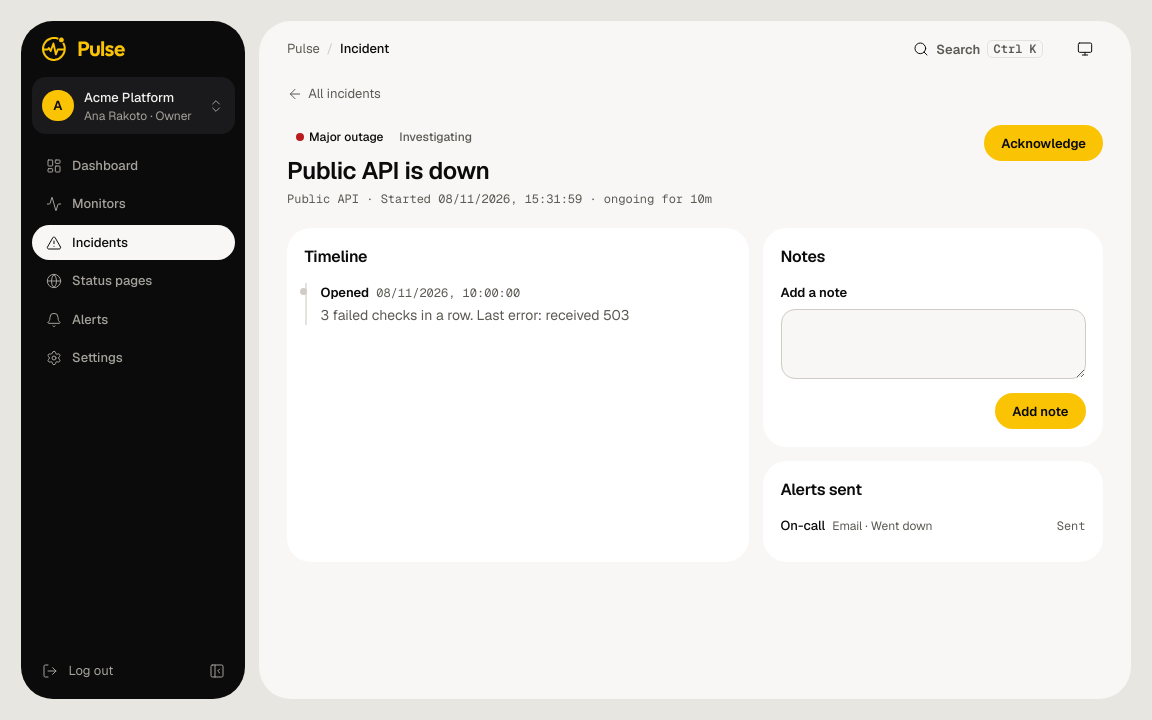
it: Incident detail › adds an internal note to a monitor incident
Step 1. Type "Restarting the pod." into the text box labelled "Add a note" → (933, 344), box 780,309 -> 1086,379
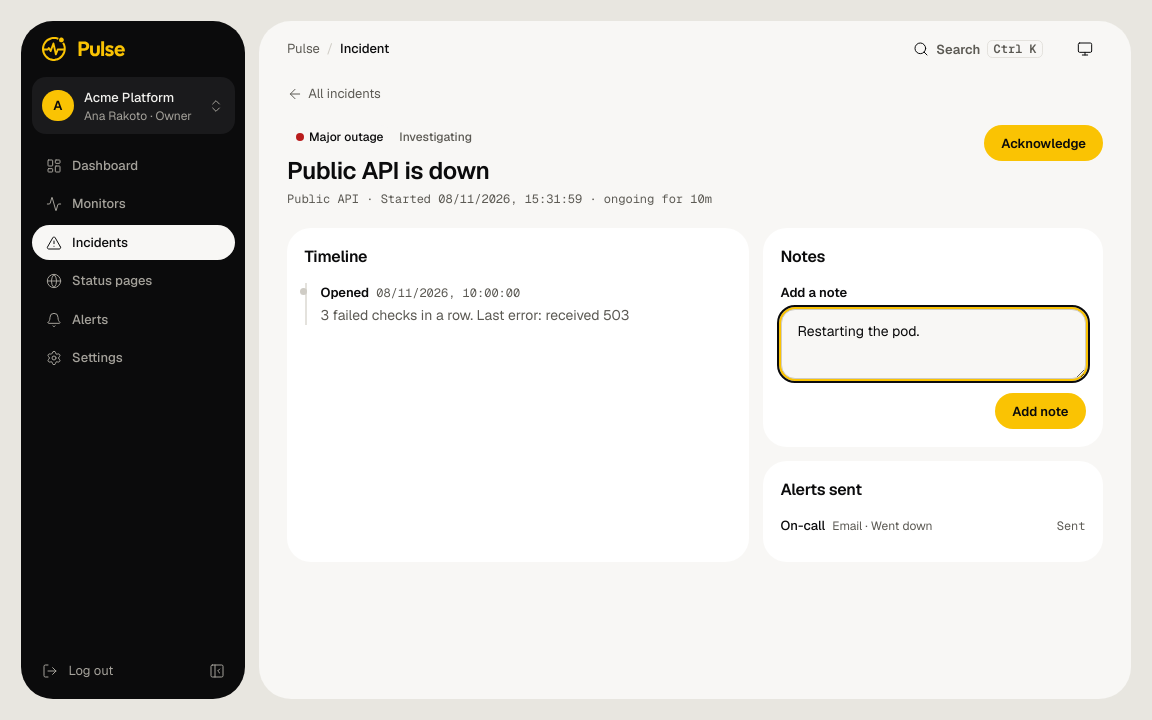
Step 2. Click the button "Add note" → click(1040, 411), box 995,393 -> 1086,429
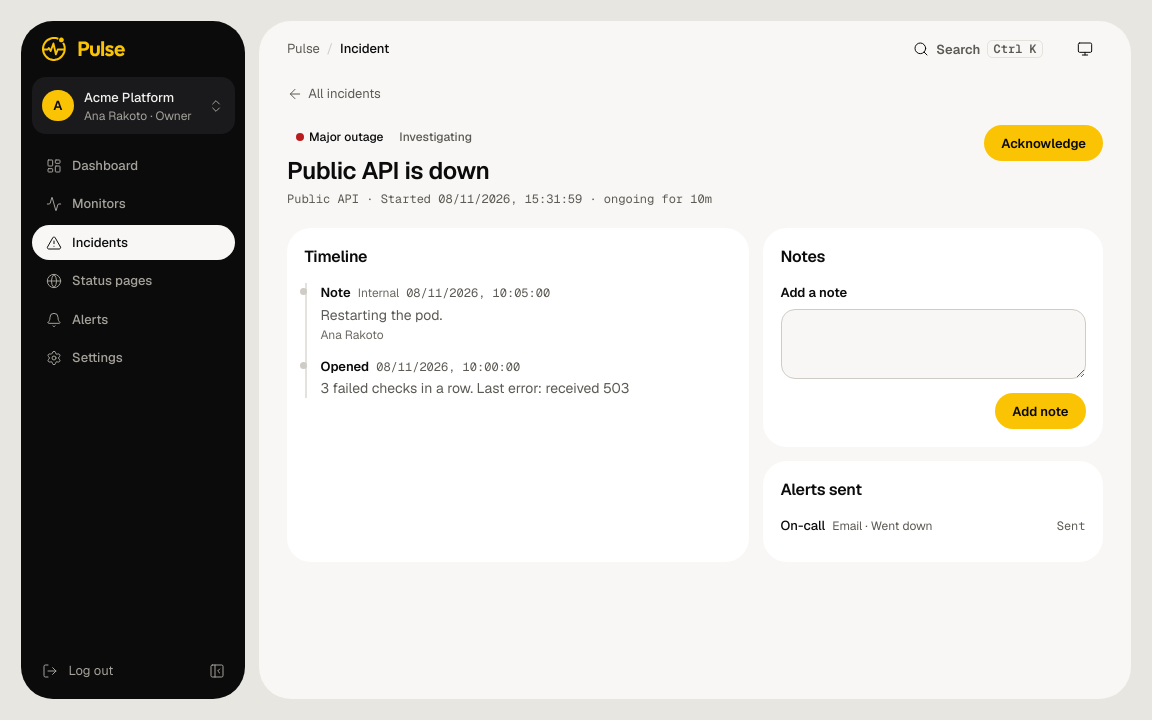
Now the text "Restarting the pod." is shown, box 320,306 -> 442,324
